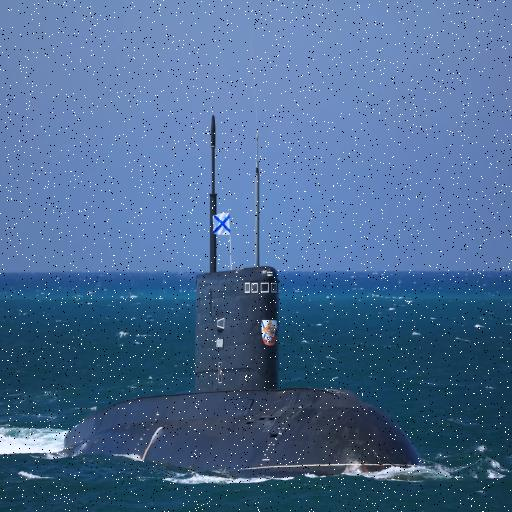submarine: (61, 110, 429, 484)
